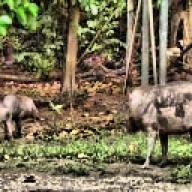boar: (124, 80, 192, 170)
